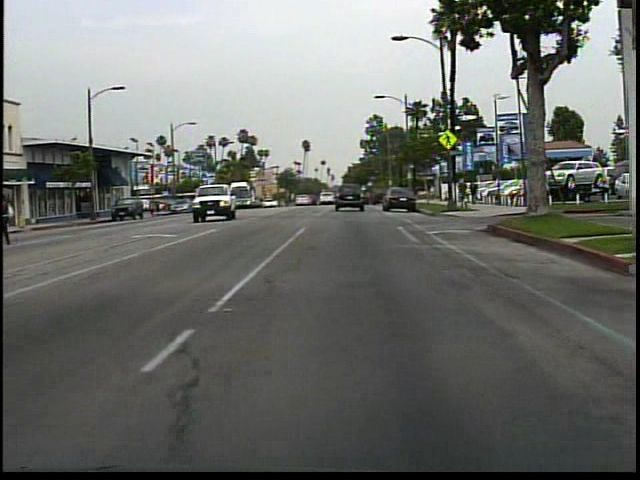person: (5, 193, 25, 246), (534, 177, 557, 218)
